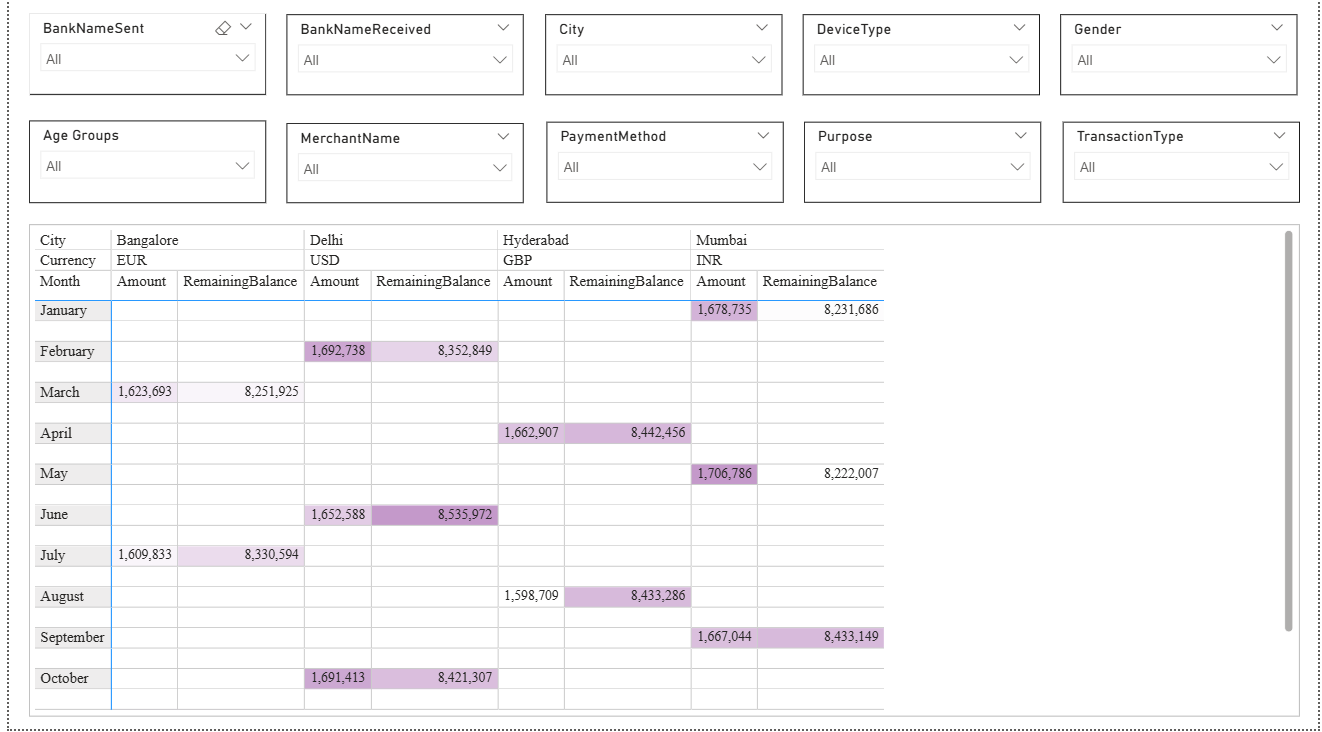

The page's visual inventory and layout, read from the dashboard file:
{"tool":"powerbi","page":{"name":"page 2","canvas":[1280,720],"ordinal":1},"visuals":[{"type":"slicer","fields":{"Values":["UPI transcations.BankNameSent"]},"box":[20,20,232,80],"z":0},{"type":"slicer","fields":{"Values":["UPI transcations.BankNameReceived"]},"box":[272,20.6,232,79],"z":1000},{"type":"slicer","fields":{"Values":["UPI transcations.City"]},"box":[524.2,20.6,232,79.6],"z":2000},{"type":"slicer","fields":{"Values":["UPI transcations.DeviceType"]},"box":[776,20.6,232,79.6],"z":3000},{"type":"slicer","fields":{"Values":["UPI transcations.Gender"]},"box":[1028,20.6,232,79.6],"z":4000},{"type":"slicer","fields":{"Values":["UPI transcations.Age Groups"]},"box":[19.2,124.9,231.9,81],"z":5000},{"type":"slicer","fields":{"Values":["UPI transcations.MerchantName"]},"box":[271.7,127.6,231.9,78.2],"z":6000},{"type":"slicer","fields":{"Values":["UPI transcations.PaymentMethod"]},"box":[525.6,126.2,231.9,79.6],"z":7000},{"type":"slicer","fields":{"Values":["UPI transcations.Purpose"]},"box":[778.3,126.1,232,79.6],"z":8000},{"type":"slicer","fields":{"Values":["UPI transcations.TransactionType"]},"box":[1030.3,126.1,232,79.6],"z":9000},{"type":"pivotTable","fields":{"Values":["Sum(UPI transcations.Amount)","Sum(UPI transcations.RemainingBalance)"],"Rows":["UPI transcations.TransactionDate.Variation.Date Hierarchy.Month"],"Columns":["UPI transcations.City","UPI transcations.Currency"]},"box":[19.2,226.4,1243.2,481.6],"z":10000}]}

Visuals, with their boxes in screenshot pixels (x1, y1, x2, y2), scaled from the page's 1280x720 canvas onto the 1322x732 screenshot:
slicer - UPI transcations.BankNameSent: <box>21,20,260,102</box>
slicer - UPI transcations.BankNameReceived: <box>281,21,521,101</box>
slicer - UPI transcations.City: <box>541,21,781,102</box>
slicer - UPI transcations.DeviceType: <box>801,21,1041,102</box>
slicer - UPI transcations.Gender: <box>1062,21,1301,102</box>
slicer - UPI transcations.Age Groups: <box>20,127,259,209</box>
slicer - UPI transcations.MerchantName: <box>281,130,520,209</box>
slicer - UPI transcations.PaymentMethod: <box>543,128,782,209</box>
slicer - UPI transcations.Purpose: <box>804,128,1043,209</box>
slicer - UPI transcations.TransactionType: <box>1064,128,1304,209</box>
pivotTable - Sum(UPI transcations.Amount) x Sum(UPI transcations.RemainingBalance): <box>20,230,1304,720</box>
